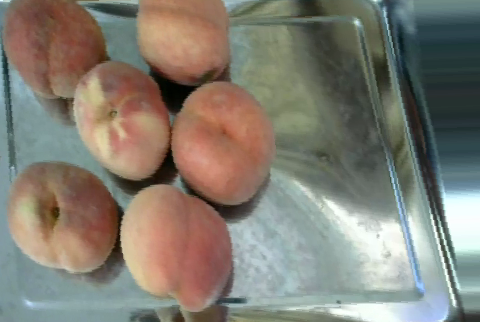Peach: (118, 187, 232, 303), (170, 82, 272, 203), (8, 160, 118, 272), (70, 60, 170, 178), (4, 1, 106, 100), (135, 0, 232, 86)
